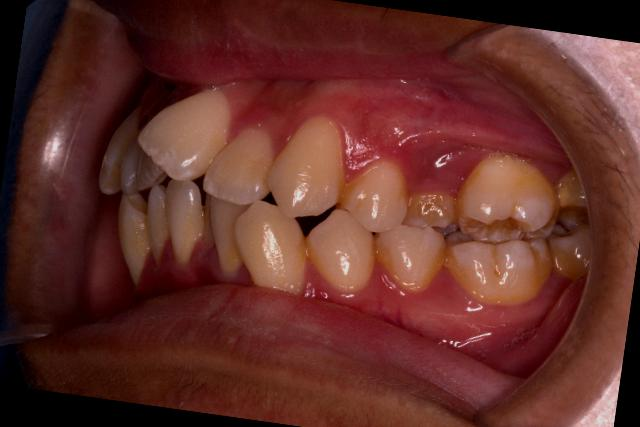canine class II 1/4: (222, 100, 394, 306)
molar class II 1/4: (437, 148, 573, 320)
